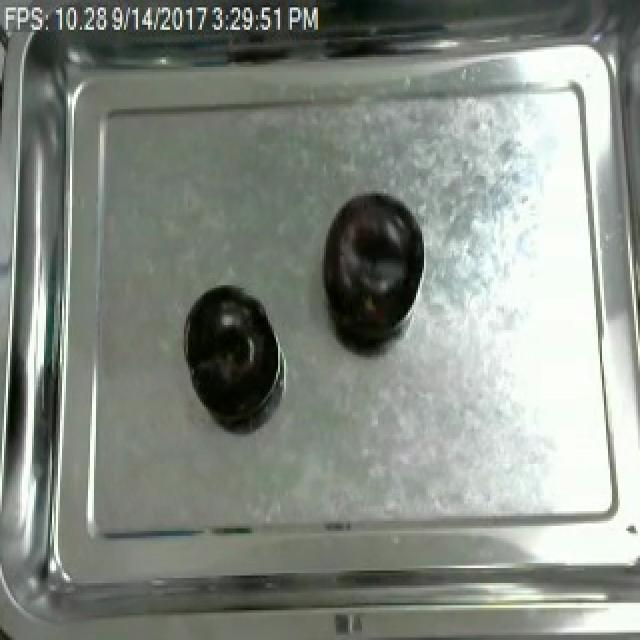Fruit: (318, 186, 424, 347), (182, 288, 276, 422)
